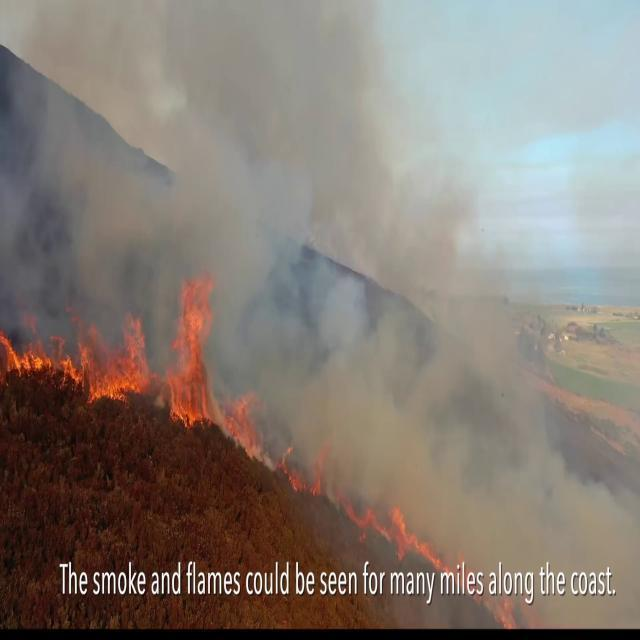Fire: (168, 268, 227, 421), (83, 294, 155, 400), (0, 317, 70, 375), (224, 389, 262, 443), (378, 506, 411, 551)
Smoke: (162, 3, 350, 214), (0, 0, 144, 244), (295, 267, 479, 433)
